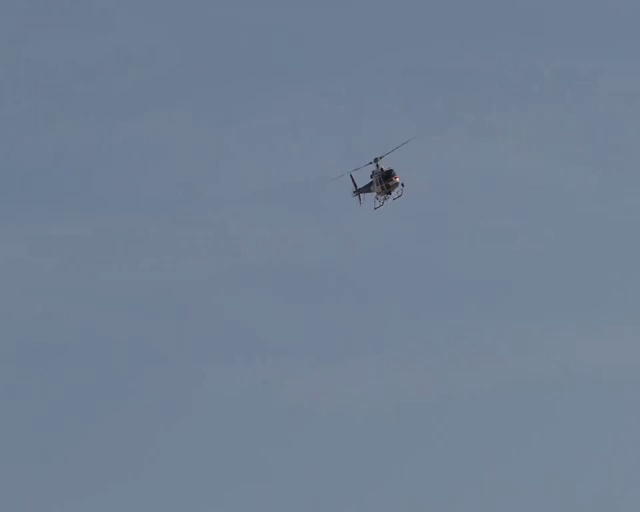HELICOPTER: (330, 135, 416, 211)
